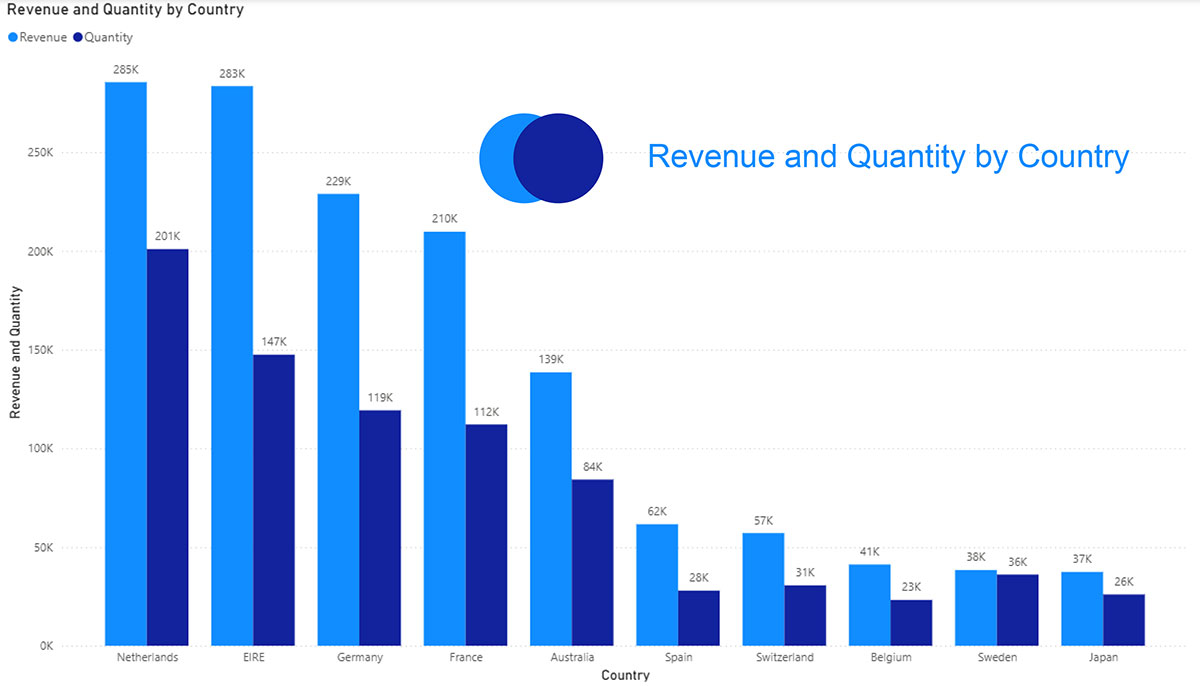

The dashboard page shown, as its layout file describes it:
{"tool":"powerbi","page":{"name":"Top 10 Countries","canvas":[1280,720],"ordinal":1},"visuals":[{"type":"clusteredColumnChart","fields":{"Category":["Online Retail.Country"],"Y":["Sum(Online Retail.Revenue)","Sum(Online Retail.Quantity)"]},"box":[9.8,0,1247.6,720.6],"z":0}]}

Visuals, with their boxes in screenshot pixels (x1, y1, x2, y2), scaled from the page's 1280x720 canvas onto the 1200x686 screenshot:
clusteredColumnChart - Online Retail.Country x Sum(Online Retail.Revenue): box(9, 0, 1179, 685)
